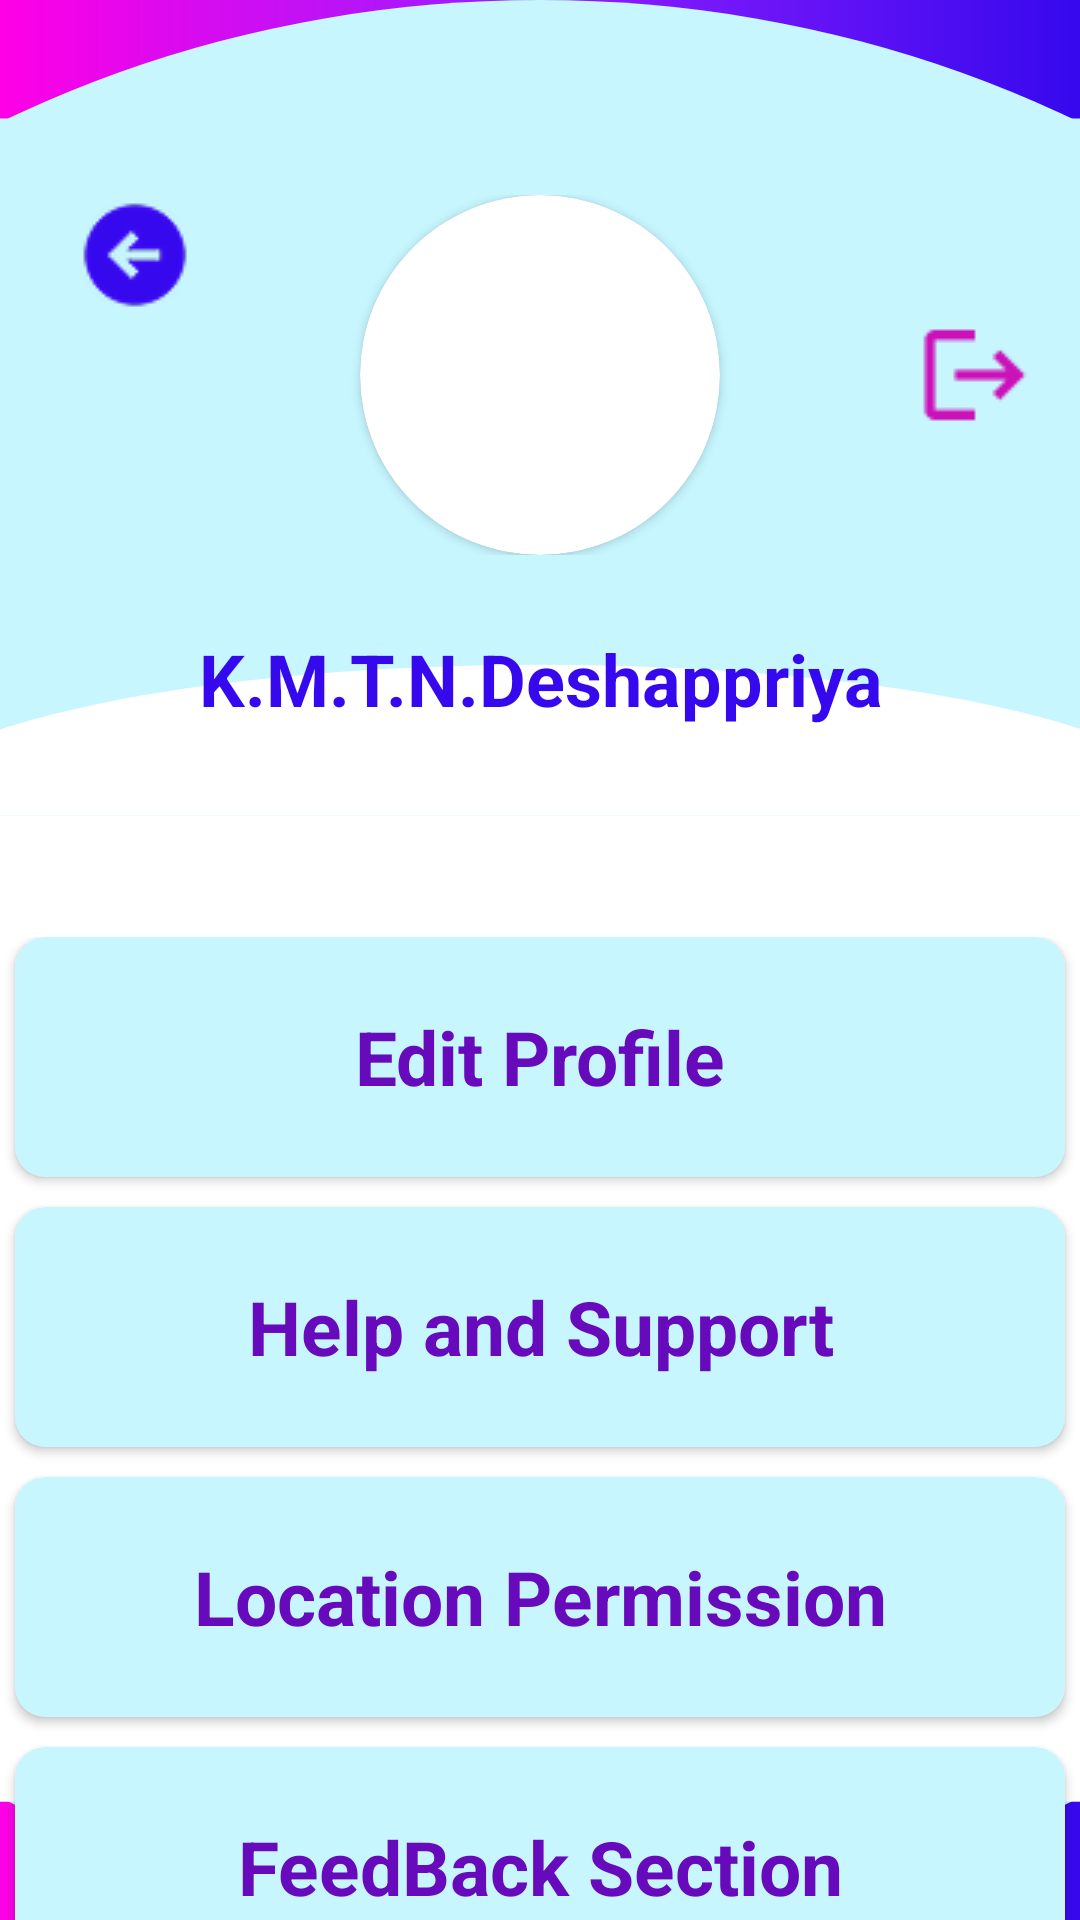

Where to tap for icons on this 1080x1920 app screen, as point (x, y):
go back: point (135, 255)
